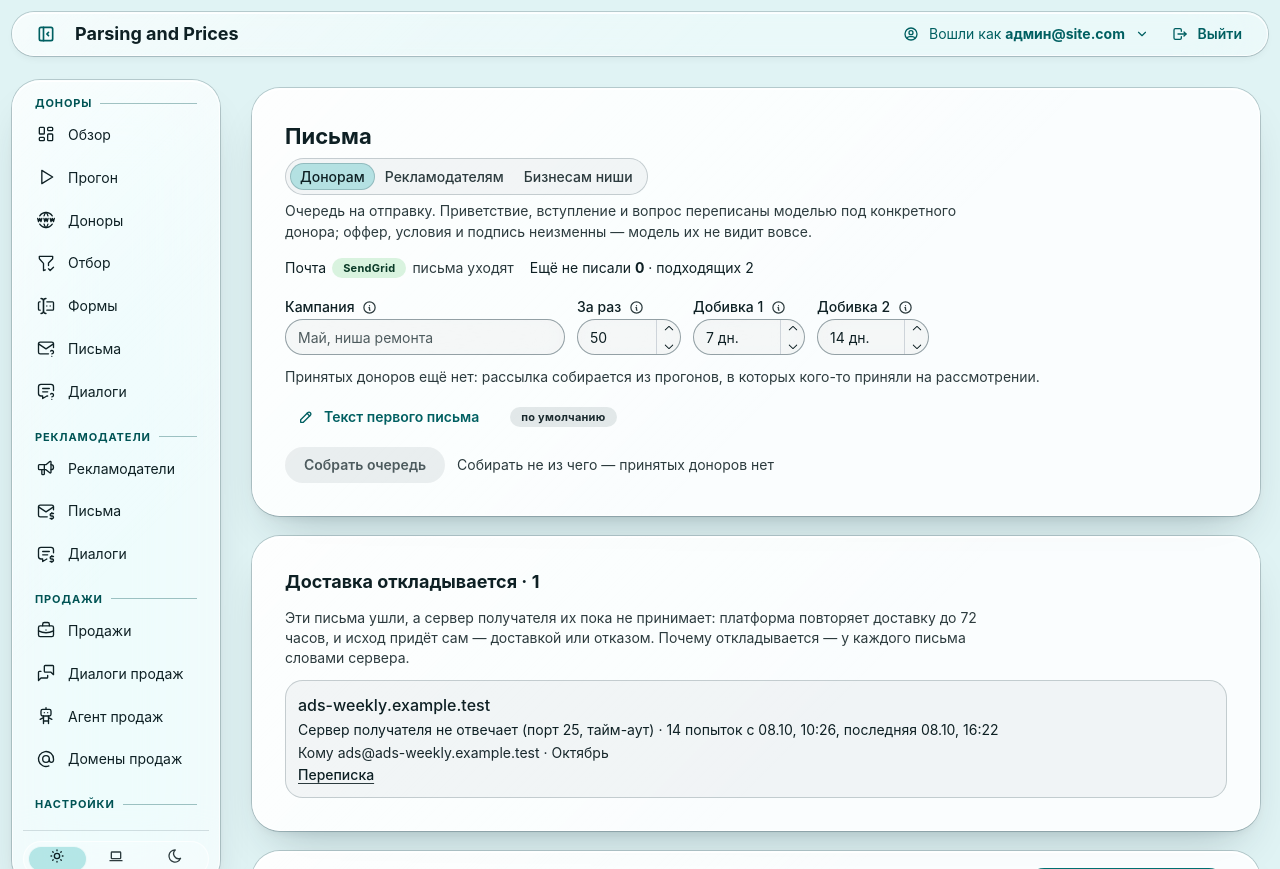
Test: доставка откладывается › у рекламодателей — свой список
The image size is (1280, 869).
Expected: the heading "Доставка откладывается · 1" is shown, [285,572,539,592]
Click the 1st radio button labelled "Рекламодателям". click: (444,177)
box: [375,163,514,190]
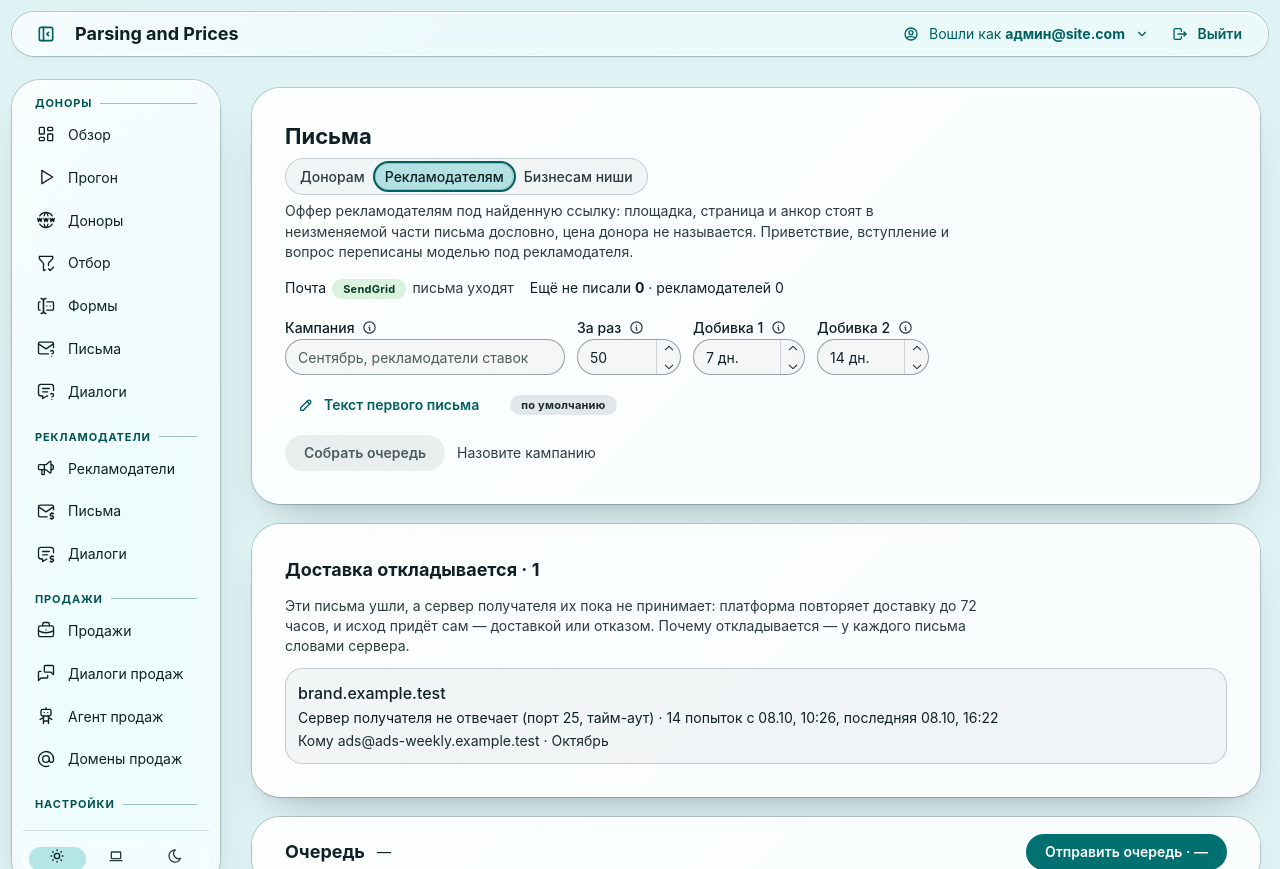
Expected: the text "brand.example.test" is shown, [285,668,1227,764]
Expected: the link "Переписка" is gone
